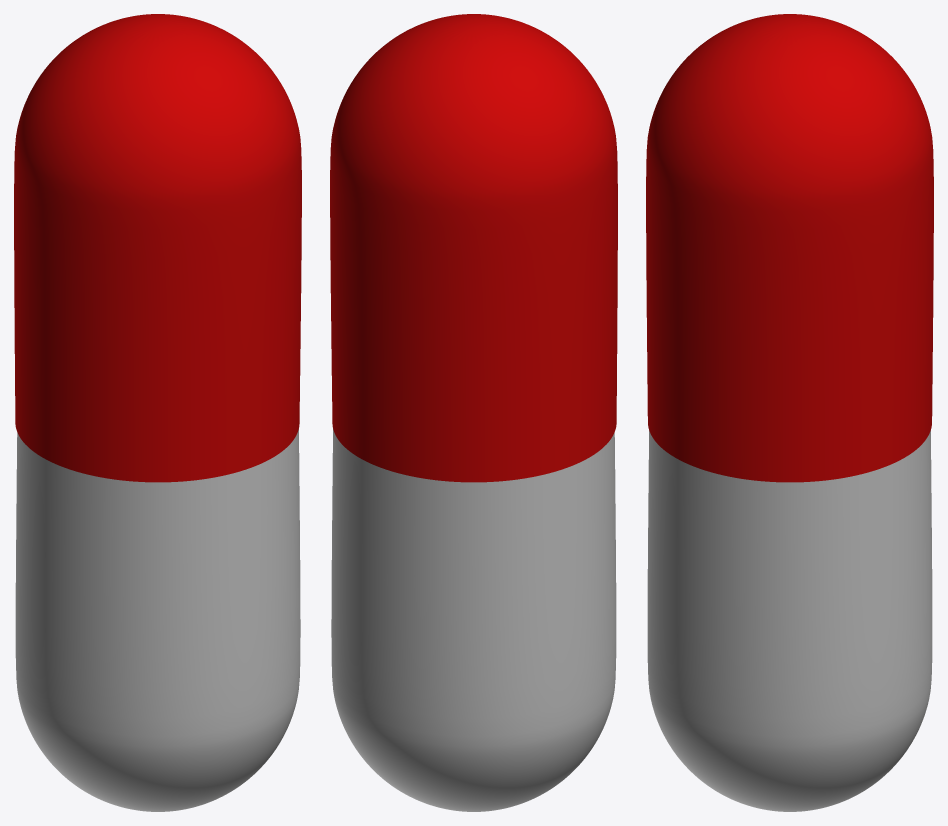
File: pilobat.obj
3 views of the same model, side by side, from view 1: azimuth 30°, elevation 25°; view 2: azimuth 150°, elevation 25°; view 3: azimuth 270°, elevation 25° (orthographic).
Visible parts, largest first — view 1: Sphere.001, Sphere; view 2: Sphere.001, Sphere; view 3: Sphere.001, Sphere.
Part boxes in pixels (bbox=[...]): Sphere.001: bbox=[14, 14, 301, 482]; Sphere: bbox=[15, 429, 300, 811]; Sphere.001: bbox=[330, 14, 617, 482]; Sphere: bbox=[331, 429, 616, 811]; Sphere.001: bbox=[646, 14, 933, 482]; Sphere: bbox=[647, 430, 932, 811].
Bounding box in the file's own units: 2 × 5.91 × 2.
